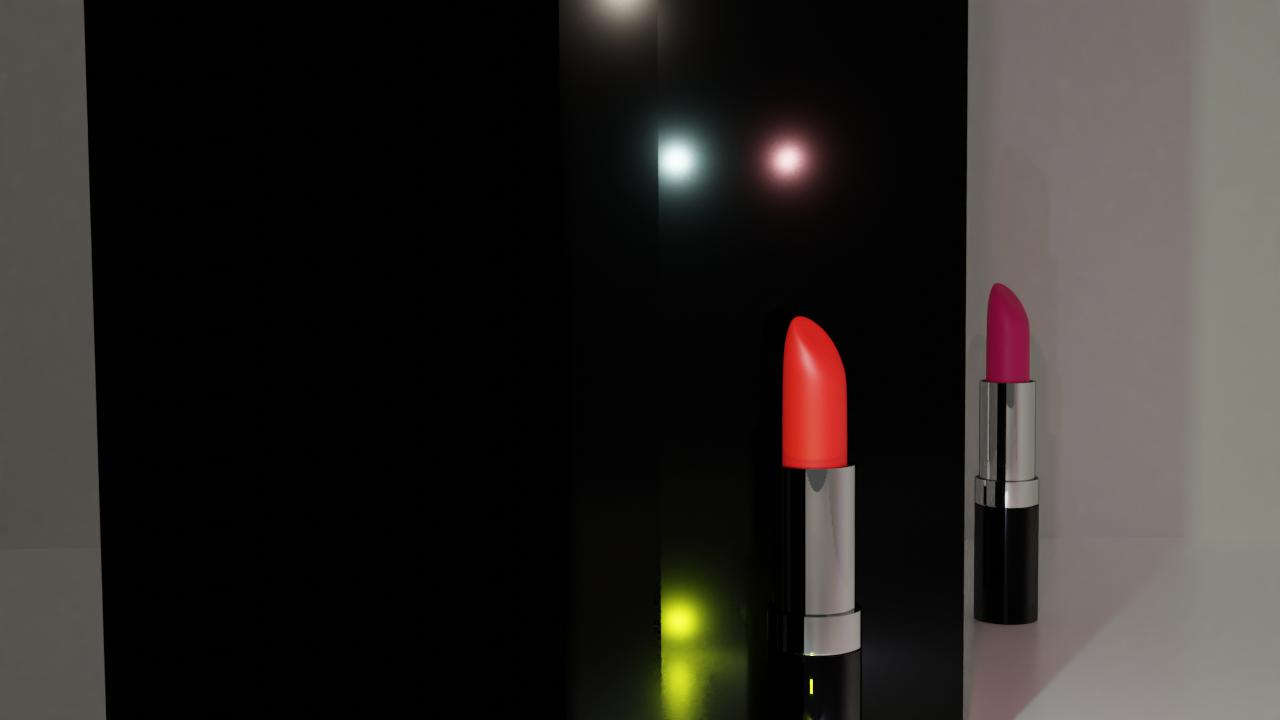CLASSIFIER_NAME: (766, 310, 865, 720), (972, 278, 1041, 624)
